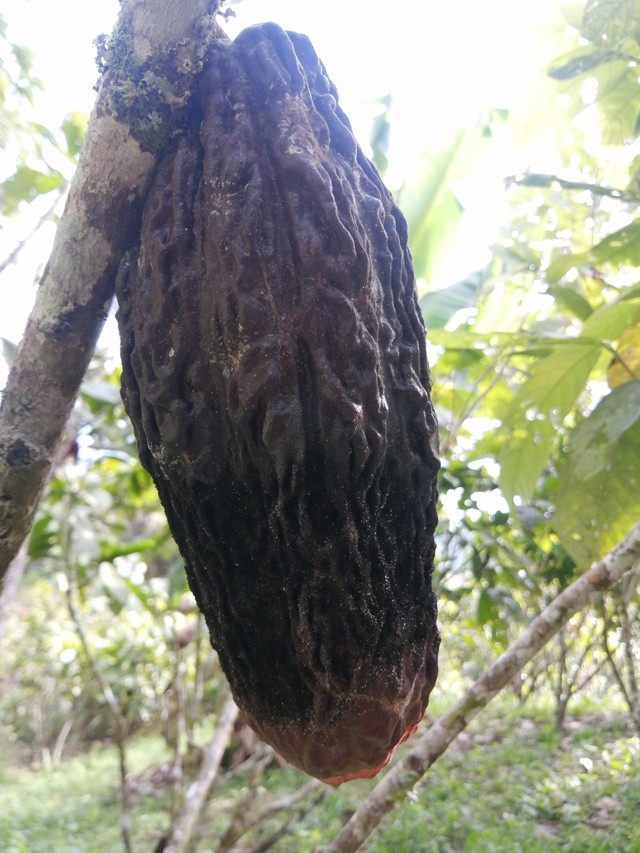phytophthora palmivora: (96, 13, 470, 802)
